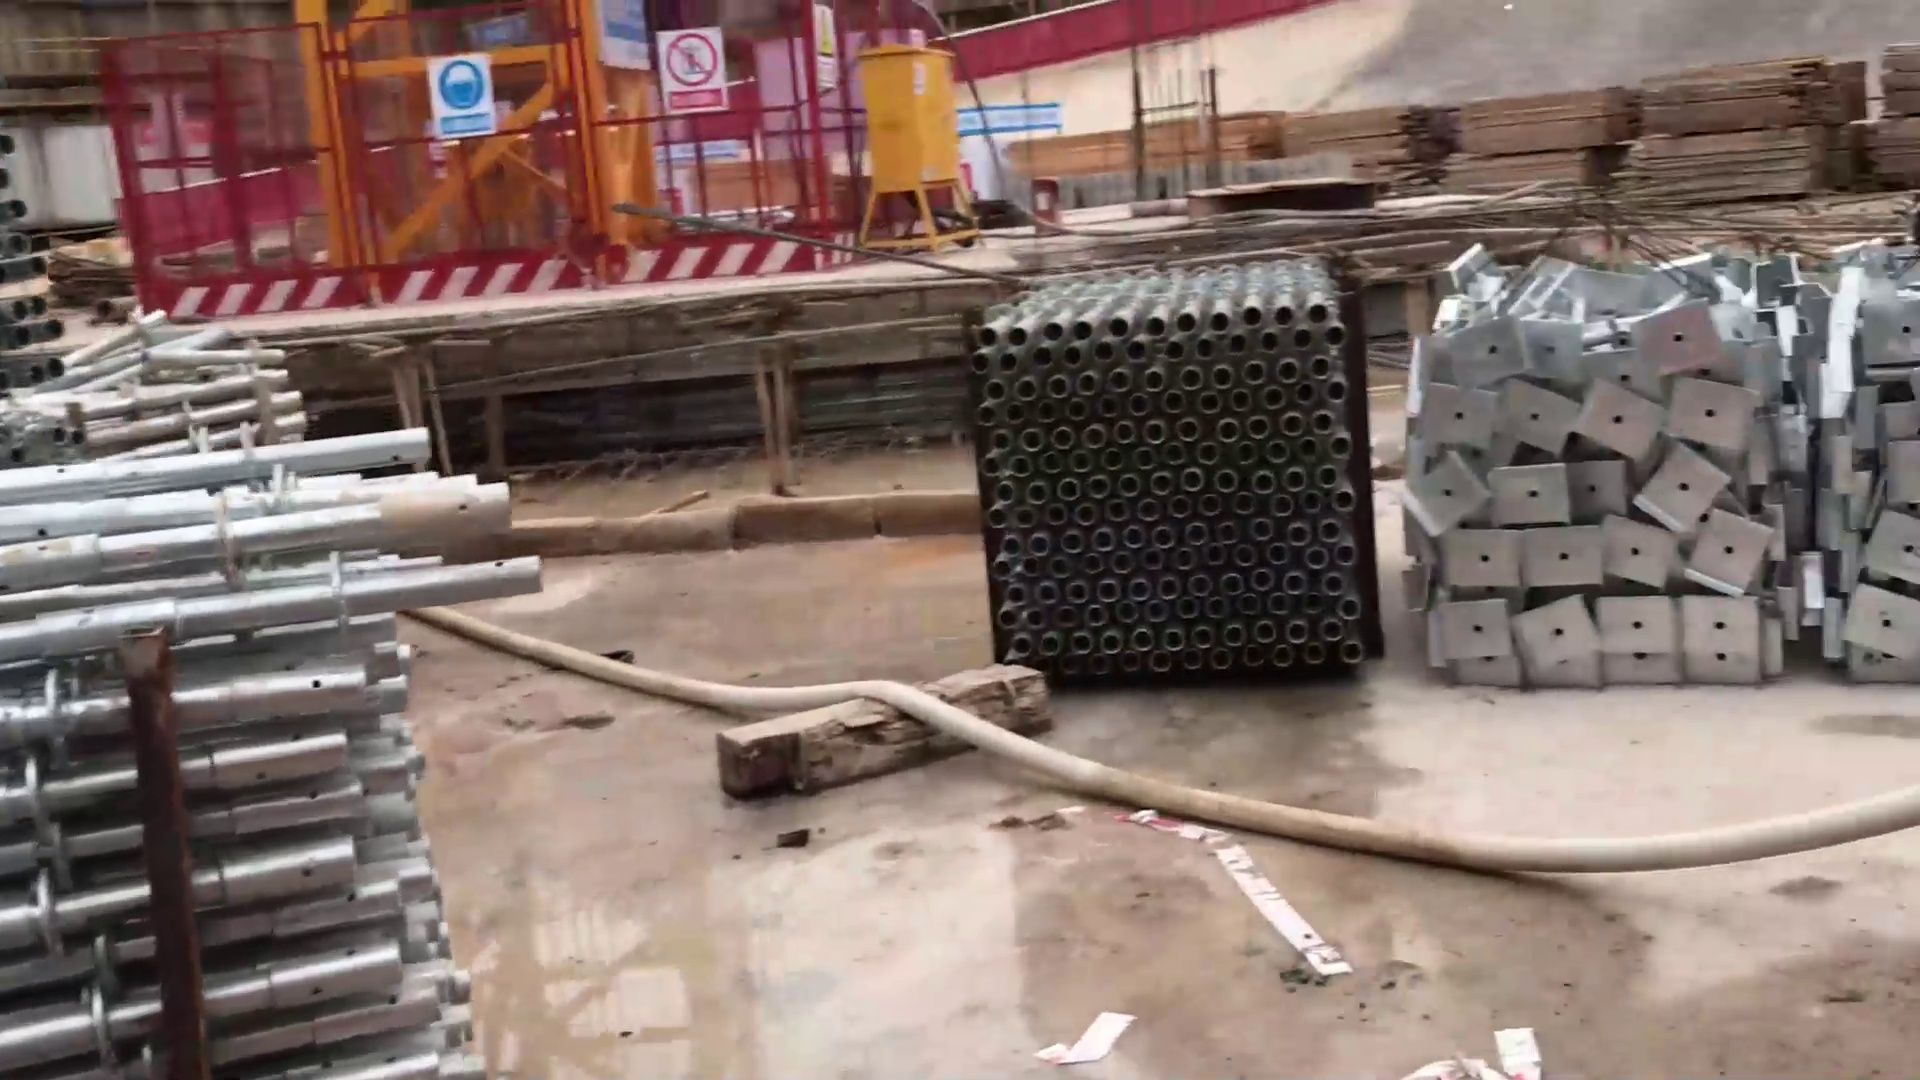ebox: (853, 36, 988, 255)
scaffold: (7, 390, 526, 1080), (1391, 243, 1801, 717), (967, 253, 1374, 713), (29, 313, 316, 454)
slogan: (423, 45, 512, 156), (658, 26, 731, 111)
wood: (1633, 47, 1869, 204), (1451, 79, 1629, 211), (1029, 115, 1291, 177), (1300, 102, 1451, 186), (1869, 15, 1920, 194)
